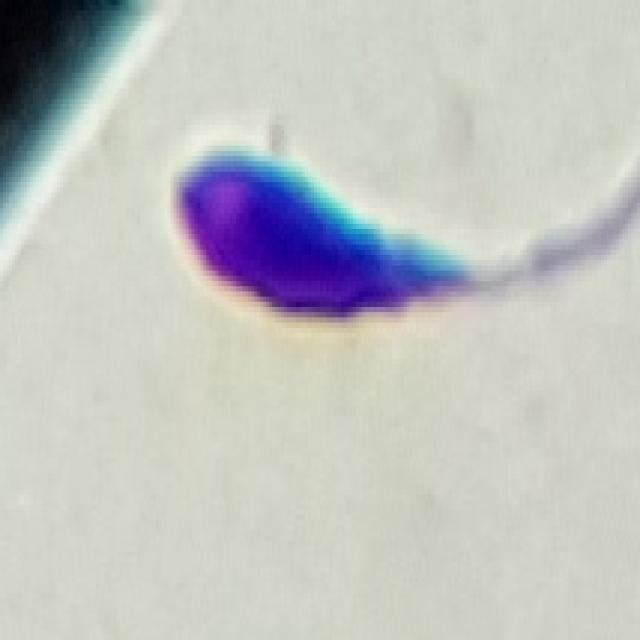abnormal sperm: (157, 139, 640, 337)
